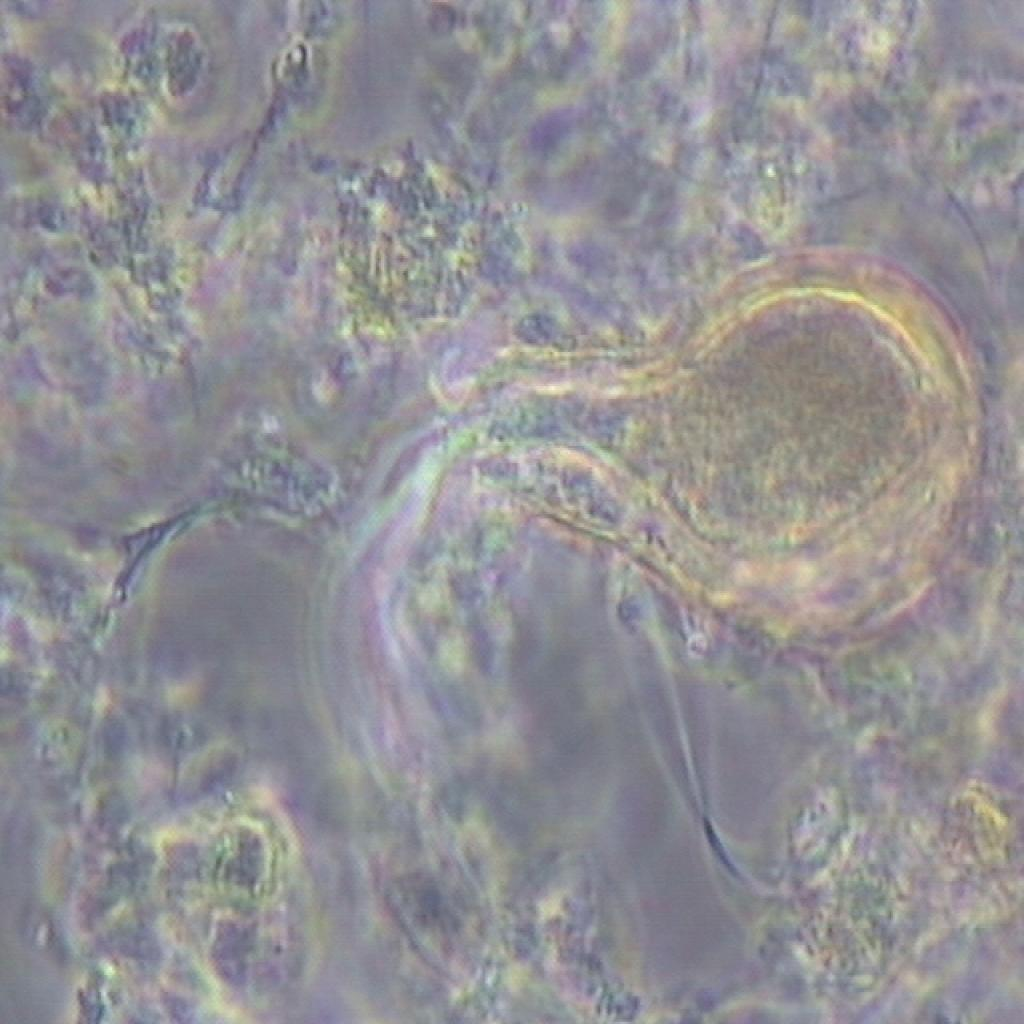Chaetopira: (484, 254, 978, 646)
